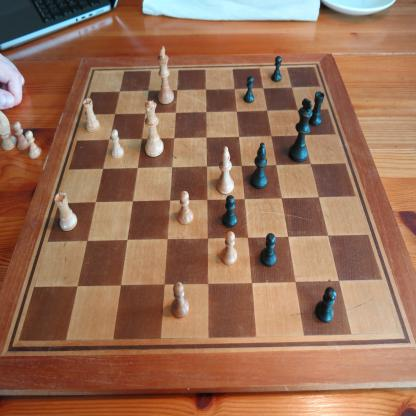black-bishop: (250, 142, 268, 189)
black-king: (288, 98, 312, 163)
black-pawn: (314, 286, 336, 324), (221, 194, 238, 229), (260, 232, 277, 267), (270, 55, 283, 82), (243, 75, 255, 104)
black-rook: (308, 90, 325, 127)
white-bishop: (216, 145, 235, 196)
white-king: (157, 45, 175, 105)
white-knight: (1, 108, 17, 152)
white-pawn: (171, 281, 190, 320), (220, 230, 238, 266), (177, 190, 194, 226), (12, 121, 30, 151), (25, 130, 42, 160), (110, 128, 125, 160)
white-queen: (144, 99, 165, 158)
white-rook: (54, 190, 78, 232), (82, 98, 100, 133)
